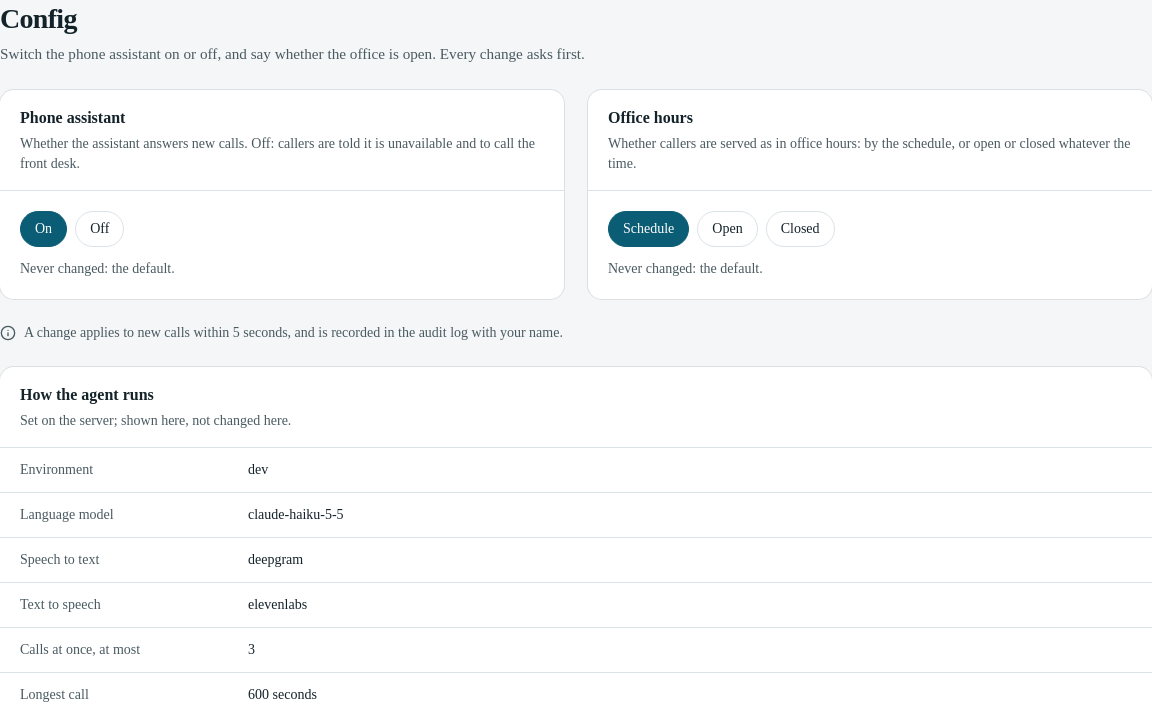
Config › says the session has changed when the anti-forgery check refuses the change
Click the radio button labelled "Off".
click(100, 229)  # box [75,211,124,247]
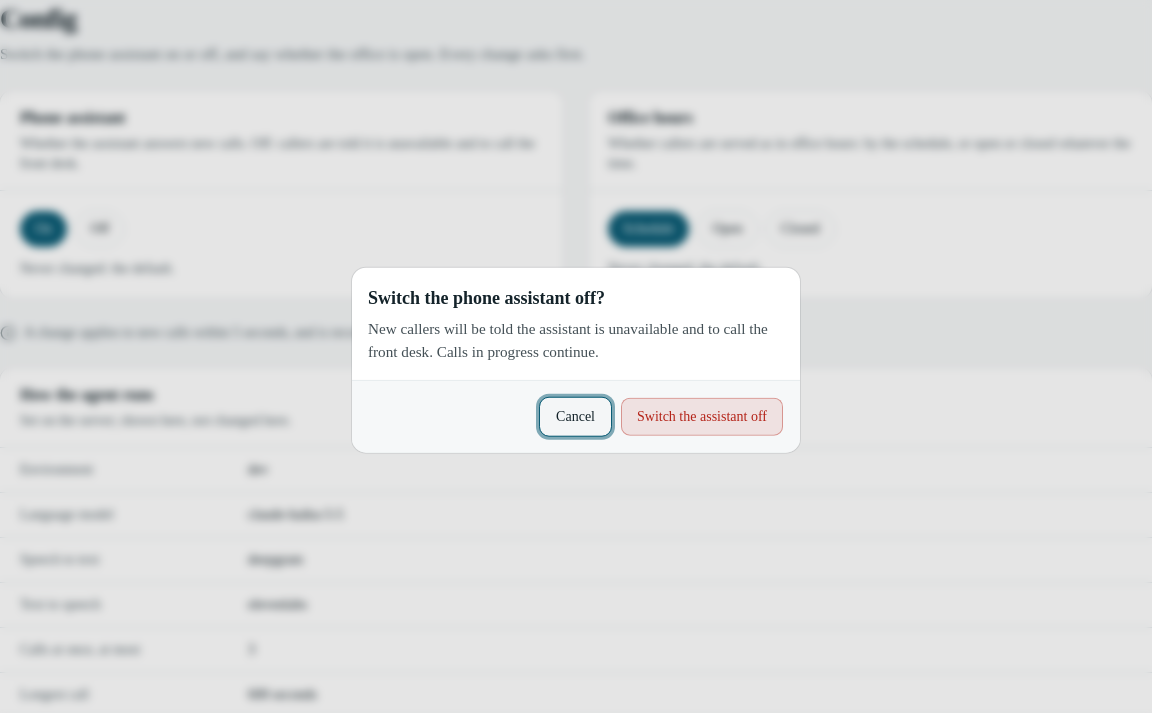
Click the button "Switch the assistant off".
click(702, 416)  # box [620,396,784,436]
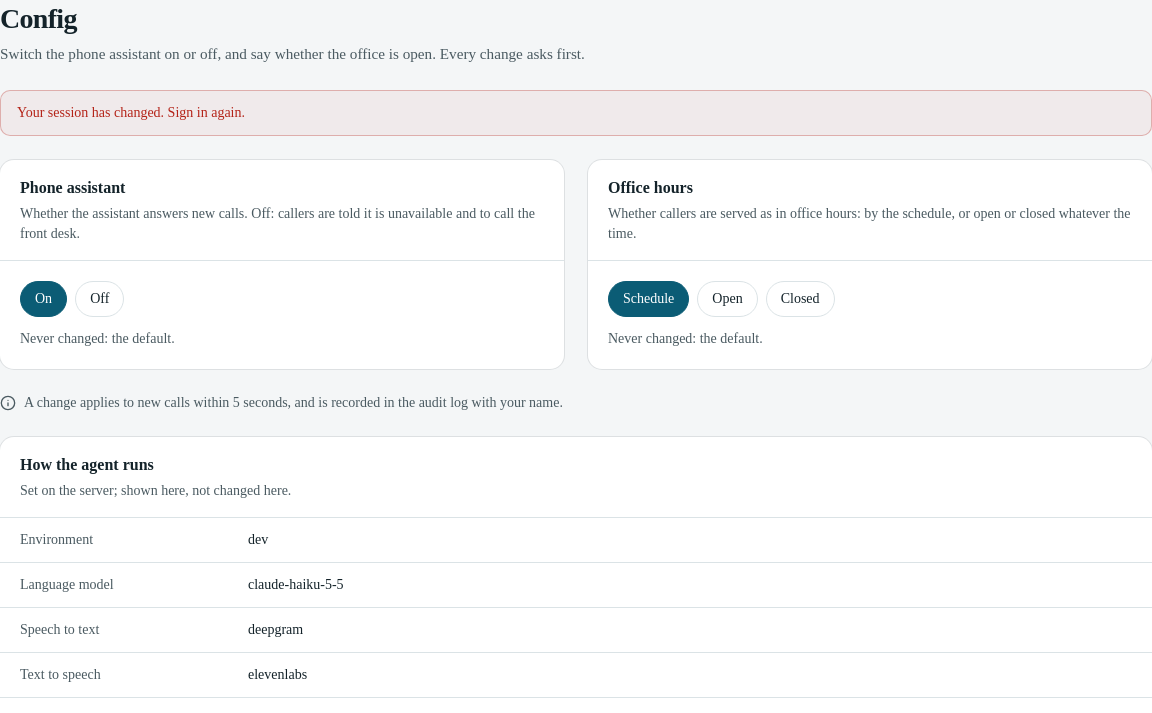
Now the text "Your session has changed. Sign in again." is shown, box [0,90,1151,136]
